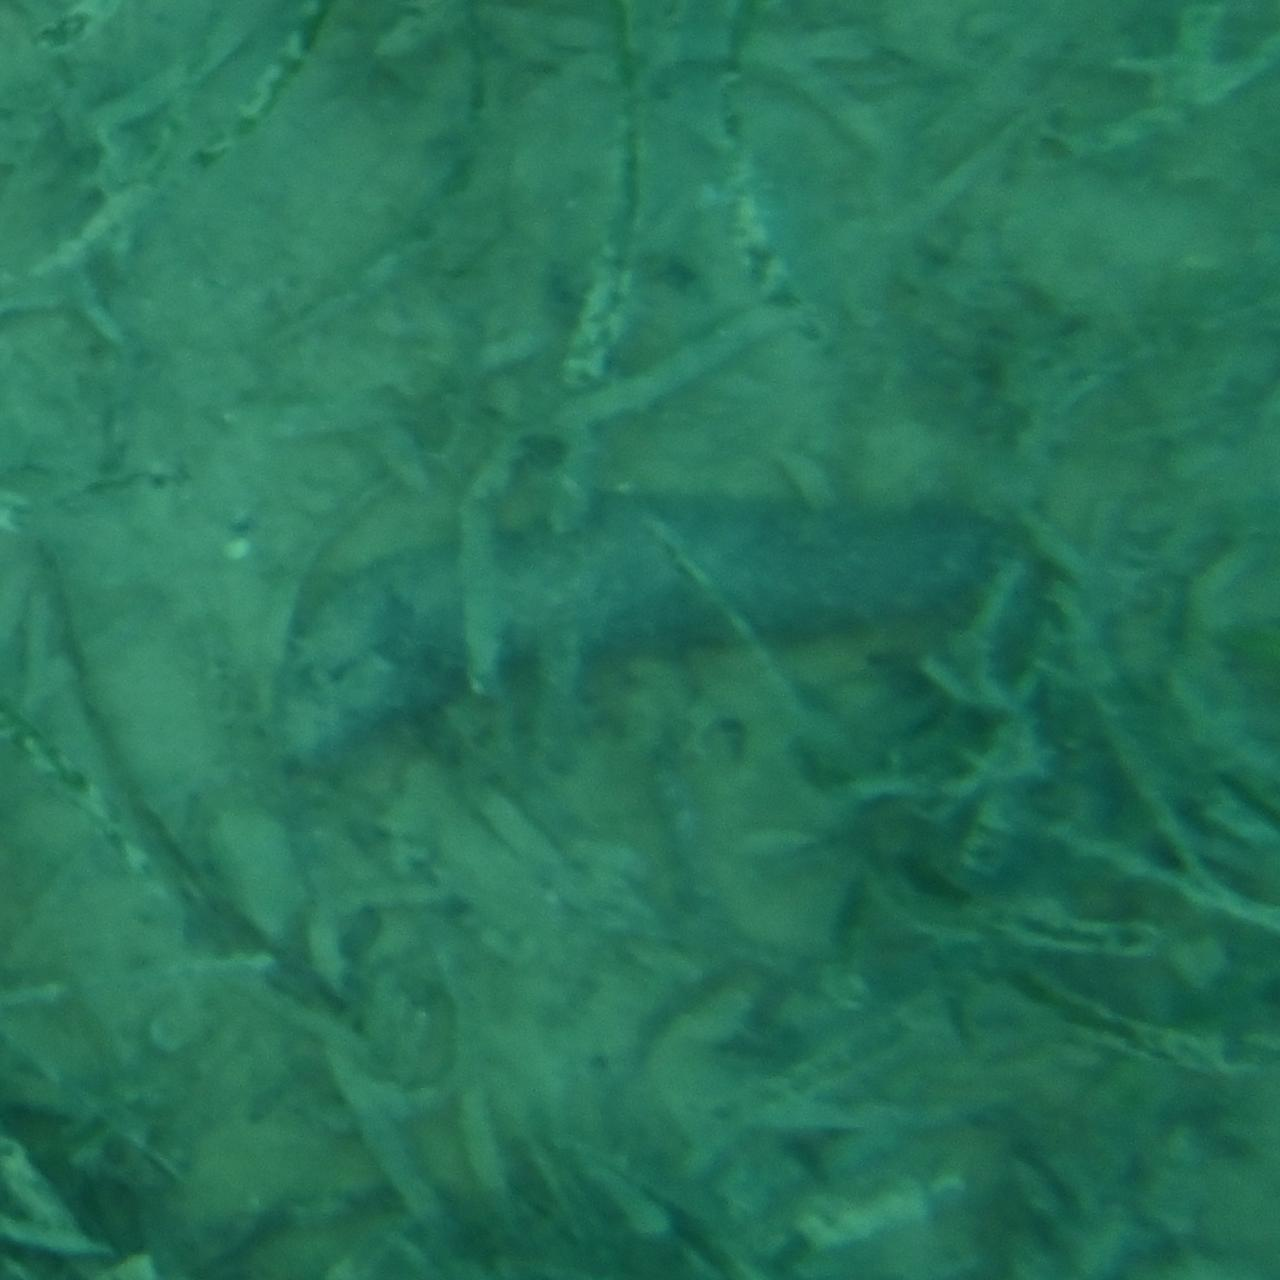Holothuria tubulosa: (260, 494, 1020, 786)
